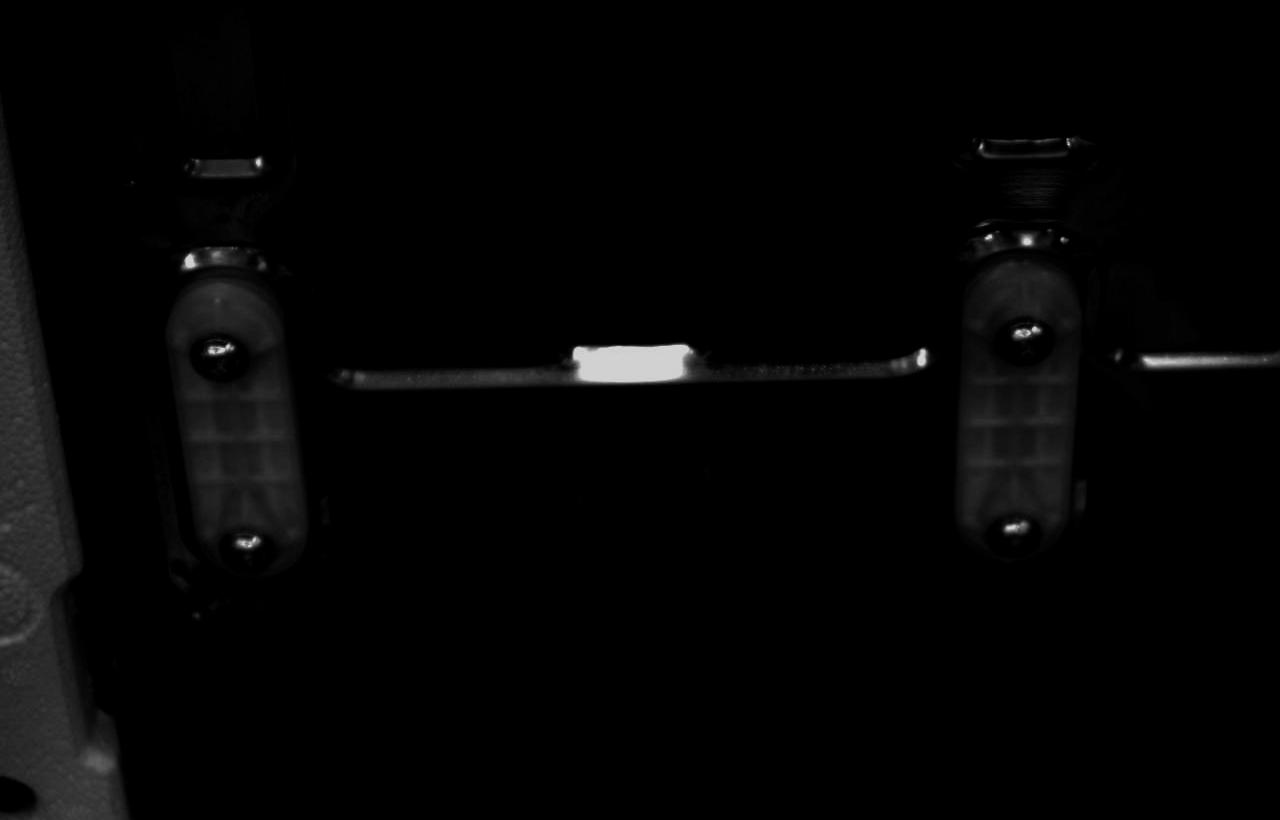vida-ok: (184, 325, 256, 392), (993, 308, 1060, 375), (983, 501, 1049, 569), (216, 521, 281, 579)
